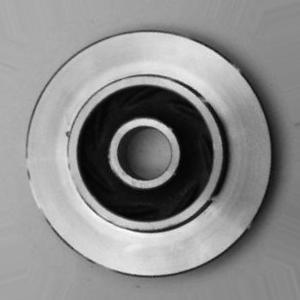casting_with_burr: (25, 30, 274, 278)
crack: (62, 126, 80, 144)
scratch: (22, 156, 56, 223)
